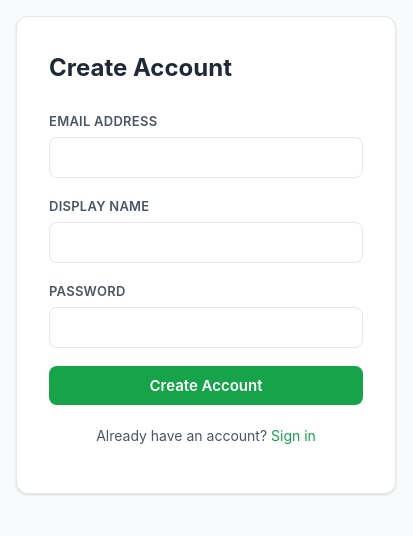
RegisterPage › handles duplicate email (409) conflict
Type "test@example.com" into the field labelled "Email address".
click(206, 158); type("test@example.com")  # box x1=49 y1=137 x2=363 y2=178
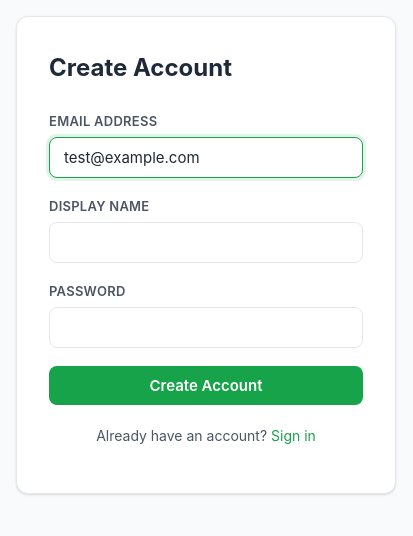
Type "Test User" into the field labelled "Display name".
click(206, 242); type("Test User")  # box x1=49 y1=222 x2=363 y2=263
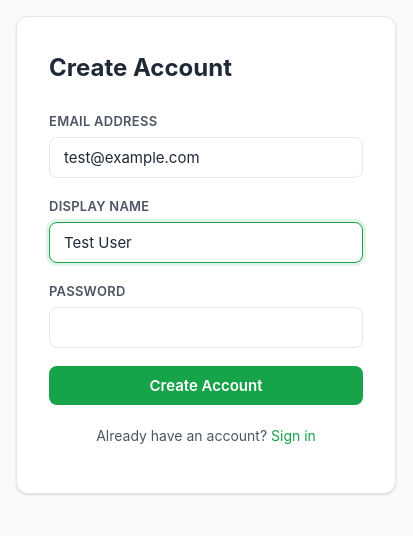
Type "password123" into the password field labelled "Password".
click(206, 327); type("password123")  # box x1=49 y1=307 x2=363 y2=348
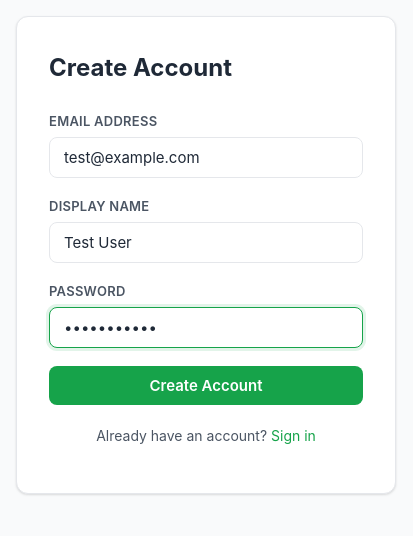
Click the button "Create Account".
click(206, 385)  # box x1=49 y1=366 x2=363 y2=405
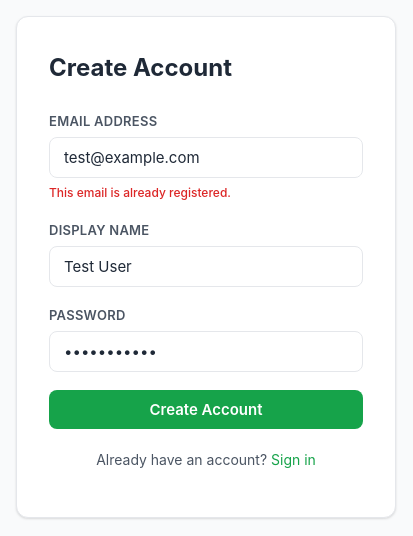
expect the text "This email is already registered." is shown: met, box x1=49 y1=185 x2=231 y2=200
